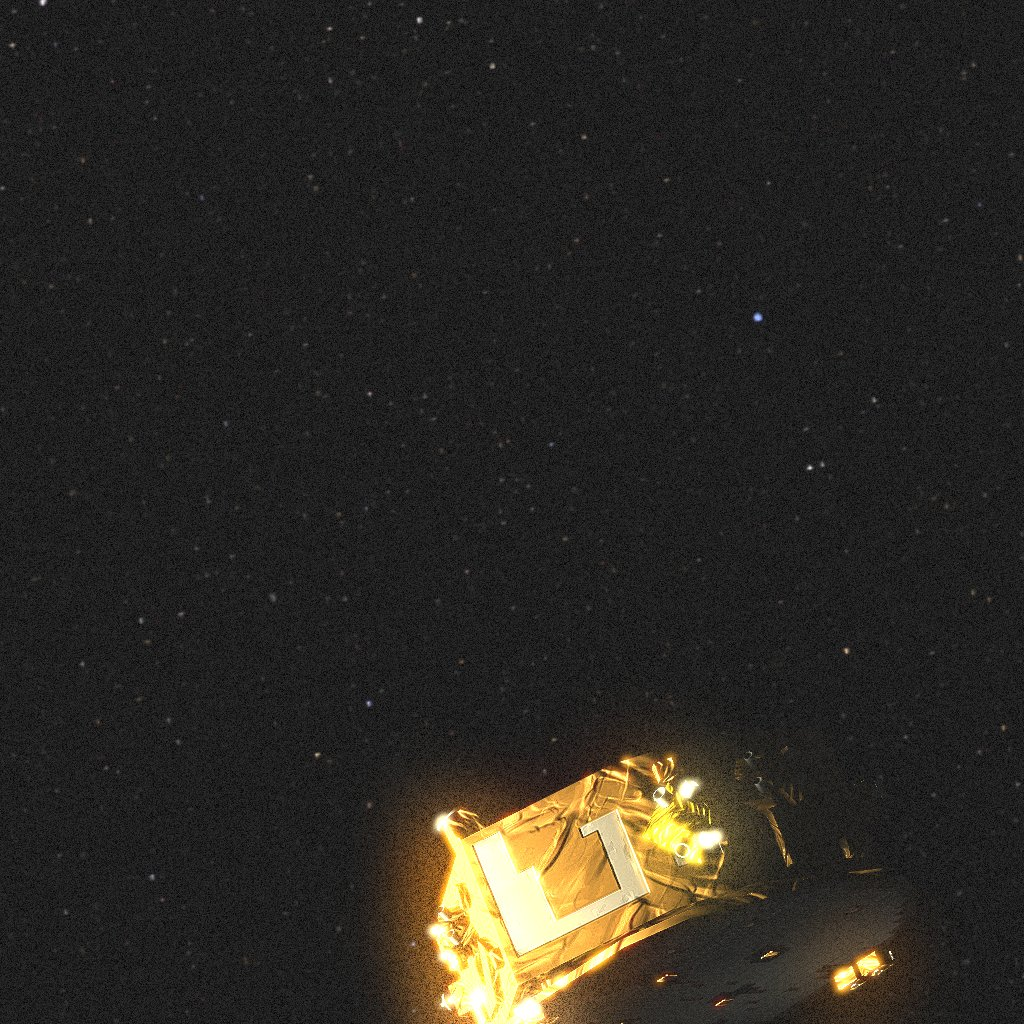lisa_pathfinder: (432, 726, 920, 1024)
